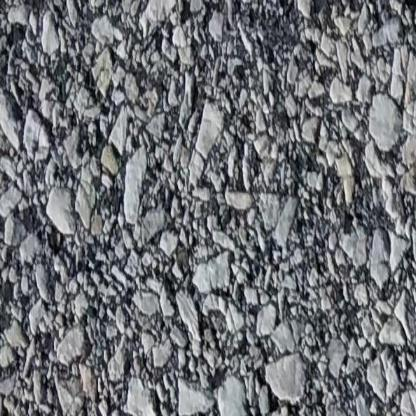Cracks: (399, 0, 416, 65)
